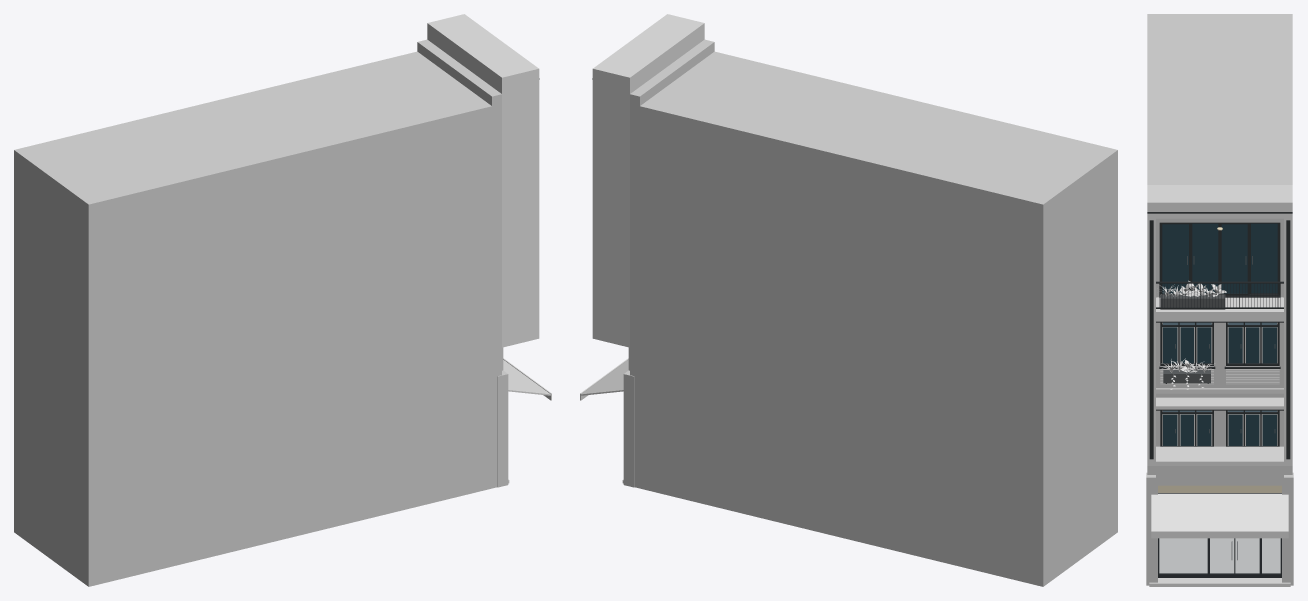
File: OW_Mau_NhaPho_5_0_0_B.fbx
3 renders of one model, left to right at view 1: azimuth 30°, elevation 25°; view 2: azimuth 150°, elevation 25°; view 3: azimuth 270°, elevation 25°, orthographic. The views are drawn at different scales.
Parts seen in each view (by area): view 1: OW_NhaPho_9009; view 2: OW_NhaPho_9009; view 3: OW_NhaPho_9009, OW_MatTienKinh.
Part boxes in pixels (x1,y1,x2,y2): OW_NhaPho_9009: (14, 14, 551, 586); OW_NhaPho_9009: (580, 14, 1117, 586); OW_NhaPho_9009: (1146, 14, 1293, 586); OW_MatTienKinh: (1158, 485, 1281, 577).
Bounding box in the file's own units: 17.77 × 14.9 × 5.
